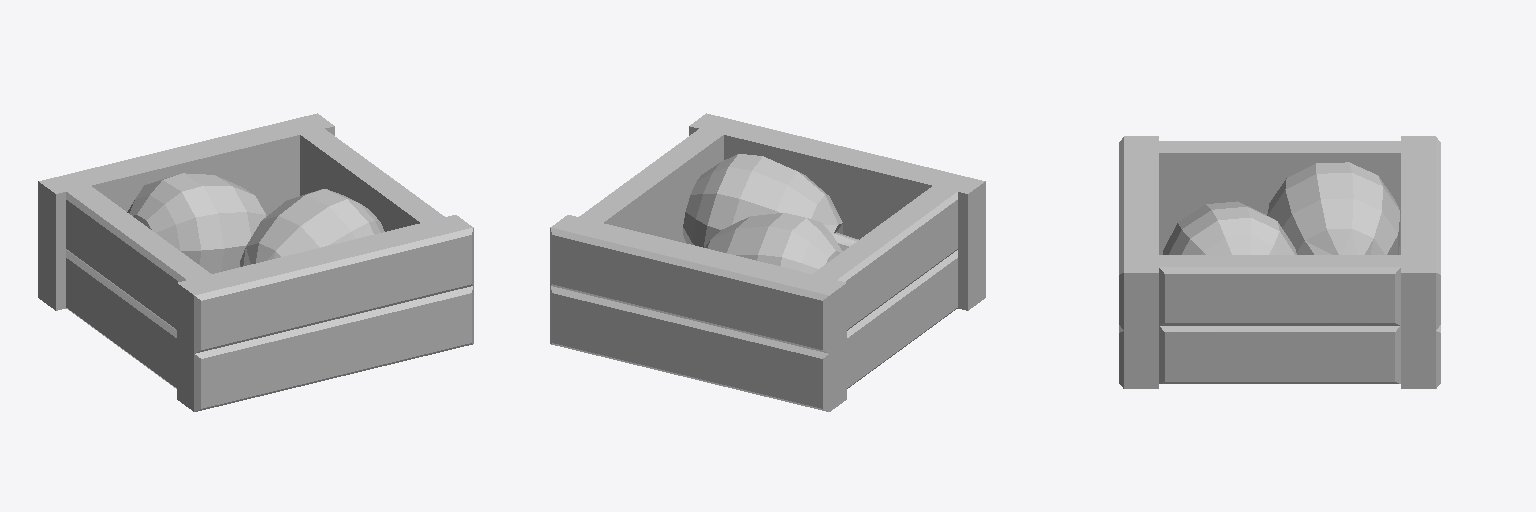
The model's file is crate_ham.obj.
The picture shows the model from 3 angles: view 1: azimuth 30°, elevation 25°; view 2: azimuth 150°, elevation 25°; view 3: azimuth 270°, elevation 25°; orthographic projection.
Visible parts, largest first — view 1: crate_ham_Cube.234; view 2: crate_ham_Cube.234; view 3: crate_ham_Cube.234.
Part boxes in pixels (bbox=[...]): crate_ham_Cube.234: bbox=[38, 113, 473, 411]; crate_ham_Cube.234: bbox=[550, 113, 985, 411]; crate_ham_Cube.234: bbox=[1119, 136, 1440, 388].
Bounding box in the file's own units: 2 × 0.8937 × 2.